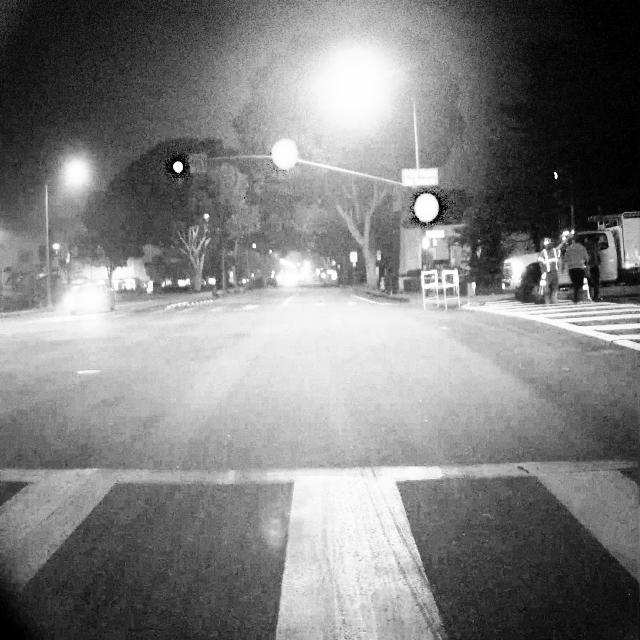Truck: (500, 210, 640, 305)
